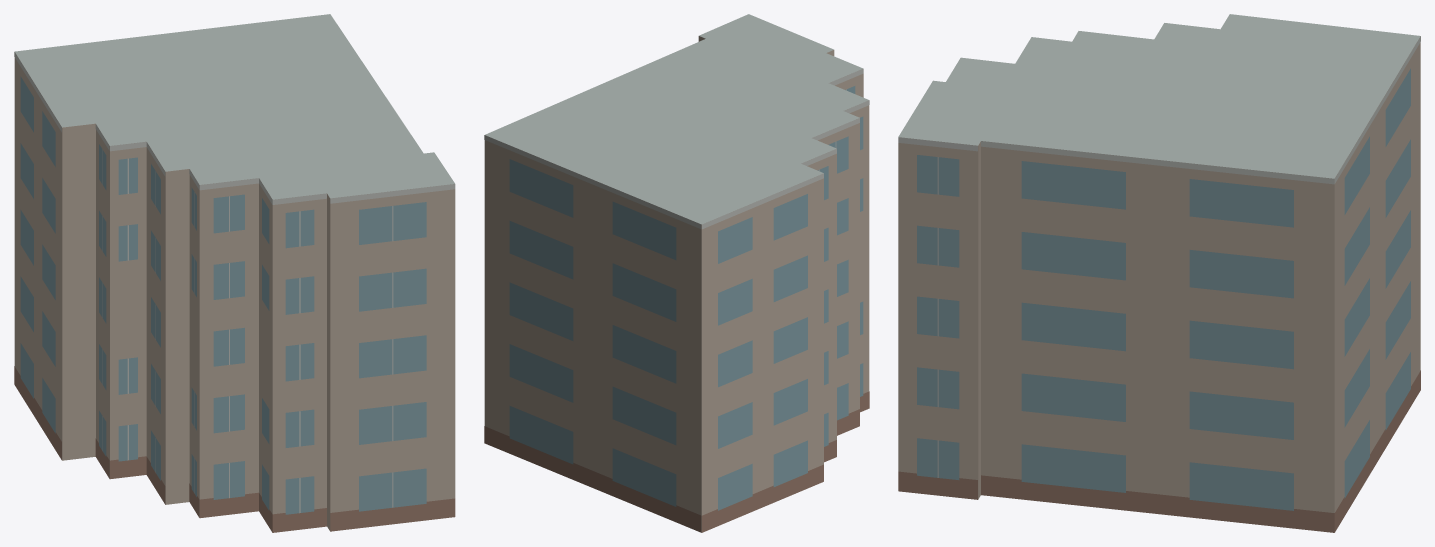
Rendered from survey-upis-32666272.glb.
The picture shows the model from 3 angles, left to right: view 1: azimuth 30°, elevation 25°; view 2: azimuth 150°, elevation 25°; view 3: azimuth 270°, elevation 25°; orthographic projection. The views are drawn at different scales.
Visible parts, largest first — view 1: survey-upis-32666272.tmp; view 2: survey-upis-32666272.tmp; view 3: survey-upis-32666272.tmp.
Boxes of the visible parts, bbox=[...] form: survey-upis-32666272.tmp: bbox=[14, 14, 455, 532]; survey-upis-32666272.tmp: bbox=[484, 14, 869, 532]; survey-upis-32666272.tmp: bbox=[898, 14, 1420, 532].
Bounding box in the file's own units: 15.12 × 15.15 × 20.27.
